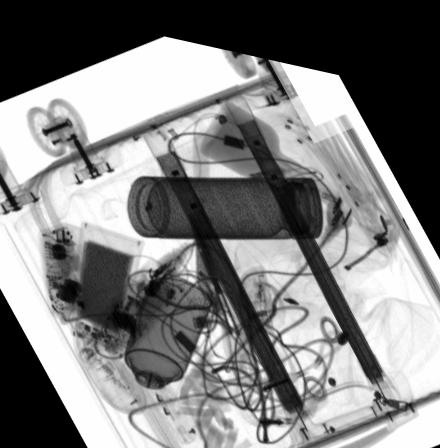Powerbank: (70, 216, 144, 344)
Scissors: (185, 205, 258, 335)
Sprayer: (115, 268, 212, 402)
